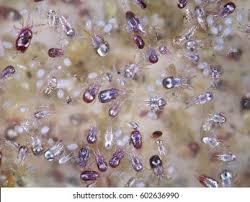insect: (77, 17, 118, 61), (8, 14, 35, 56), (81, 74, 100, 109), (96, 86, 129, 105), (126, 151, 149, 177), (127, 126, 146, 152), (81, 123, 100, 147), (109, 147, 128, 171), (45, 44, 68, 60), (92, 150, 108, 172), (78, 145, 89, 169), (80, 171, 102, 181)
